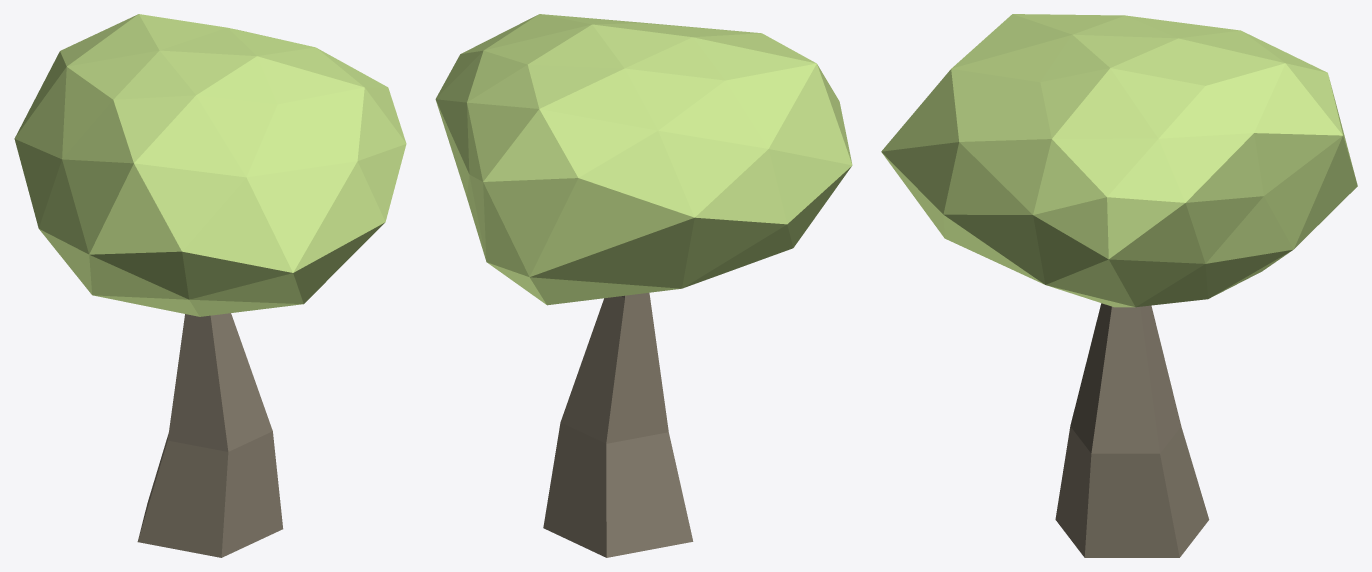
Rendered from Low_Poly_Tree_001Light3.fbx.
The picture shows the model from 3 angles, left to right: view 1: azimuth 30°, elevation 25°; view 2: azimuth 150°, elevation 25°; view 3: azimuth 270°, elevation 25°; orthographic projection. The views are drawn at different scales.
Parts seen in each view (by area): view 1: Low_Poly_Tree_001; view 2: Low_Poly_Tree_001; view 3: Low_Poly_Tree_001.
Part boxes in pixels (x1,y1,x2,y2): Low_Poly_Tree_001: [14, 14, 406, 557]; Low_Poly_Tree_001: [435, 14, 852, 557]; Low_Poly_Tree_001: [881, 14, 1357, 557].
Size of the model in its own units: 517 by 659 by 589.
